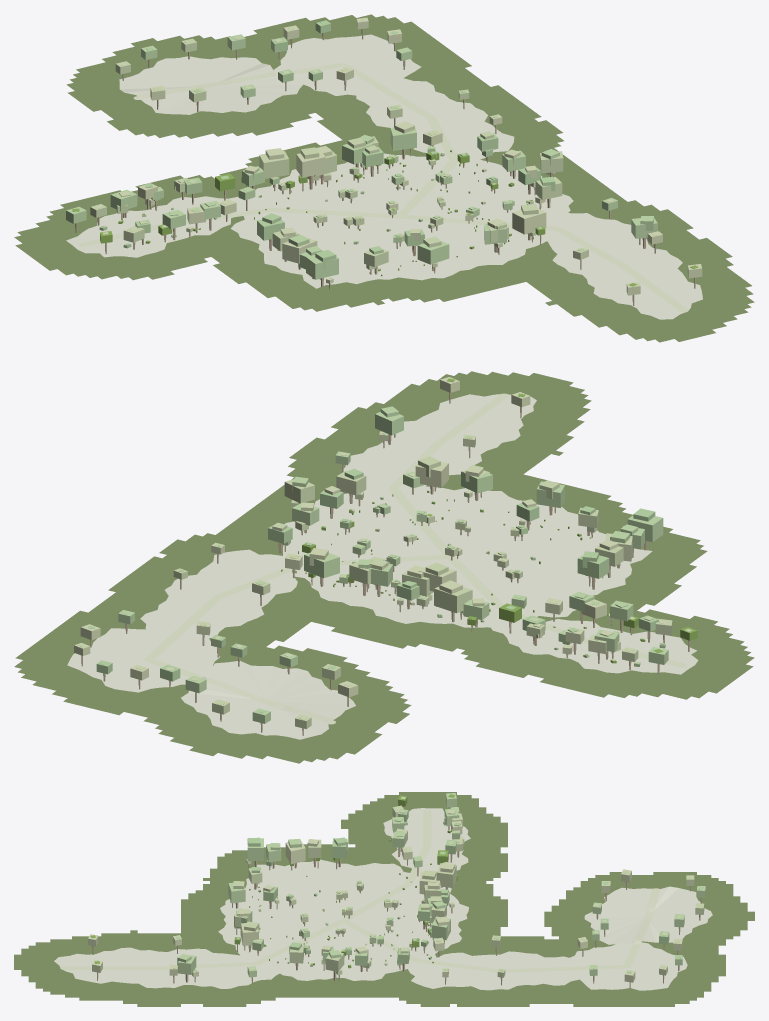
Rendered from pradera_derecha.glb.
3 renders of one model, top to bottom at view 1: azimuth 30°, elevation 25°; view 2: azimuth 150°, elevation 25°; view 3: azimuth 270°, elevation 25°, orthographic. The views are drawn at different scales.
Parts seen in each view (by area): view 1: PraderaDerechaForestFloor, RightMeadow, ExitDownMeadow, Hub2LeftMeadow, ExitUpMeadow, Hub2Meadow, ExitMeadow, NorthPath, SouthPath, ExitPath, right_tree_crown_22, right_tree_crown_14 (+3 smaller); view 2: PraderaDerechaForestFloor, RightMeadow, ExitDownMeadow, Hub2LeftMeadow, ExitUpMeadow, Hub2Meadow, ExitMeadow, NorthPath, SouthPath, ExitPath, right_tree_crown_14, right_tree_crown_17; view 3: PraderaDerechaForestFloor, RightMeadow, ExitDownMeadow, ExitUpMeadow, Hub2LeftMeadow, Hub2Meadow, ExitMeadow, NorthPath, SouthPath, ExitPath.
Boxes of the visible parts, left/top/right/bottom form: PraderaDerechaForestFloor: left=14, top=14, right=754, bottom=342; RightMeadow: left=230, top=152, right=573, bottom=288; ExitDownMeadow: left=535, top=213, right=702, bottom=319; Hub2LeftMeadow: left=119, top=56, right=303, bottom=114; ExitUpMeadow: left=348, top=78, right=514, bottom=164; Hub2Meadow: left=274, top=34, right=421, bottom=95; ExitMeadow: left=66, top=196, right=262, bottom=257; NorthPath: left=133, top=63, right=458, bottom=214; SouthPath: left=400, top=214, right=688, bottom=312; ExitPath: left=78, top=208, right=404, bottom=246; right_tree_crown_22: left=512, top=208, right=546, bottom=234; right_tree_crown_14: left=259, top=150, right=289, bottom=178; PraderaDerechaForestFloor: left=14, top=371, right=754, bottom=763; RightMeadow: left=272, top=484, right=652, bottom=628; ExitDownMeadow: left=343, top=394, right=536, bottom=497; Hub2LeftMeadow: left=181, top=661, right=355, bottom=739; ExitUpMeadow: left=140, top=549, right=303, bottom=646; Hub2Meadow: left=67, top=628, right=219, bottom=692; ExitMeadow: left=491, top=619, right=698, bottom=674; NorthPath: left=144, top=554, right=447, bottom=724; SouthPath: left=388, top=393, right=509, bottom=555; ExitPath: left=445, top=555, right=686, bottom=667; right_tree_crown_14: left=434, top=586, right=472, bottom=613; right_tree_crown_17: left=304, top=552, right=339, bottom=578; PraderaDerechaForestFloor: left=14, top=792, right=754, bottom=1006; RightMeadow: left=218, top=859, right=468, bottom=980; ExitDownMeadow: left=54, top=947, right=280, bottom=988; ExitUpMeadow: left=408, top=951, right=590, bottom=990; Hub2LeftMeadow: left=584, top=886, right=712, bottom=944; Hub2Meadow: left=567, top=942, right=687, bottom=990; ExitMeadow: left=383, top=808, right=470, bottom=876; NorthPath: left=341, top=888, right=659, bottom=972; SouthPath: left=60, top=919, right=343, bottom=969; ExitPath: left=340, top=810, right=431, bottom=921.
Size of what is drawn, in the model's own units: 140 by 9.74 by 204.
